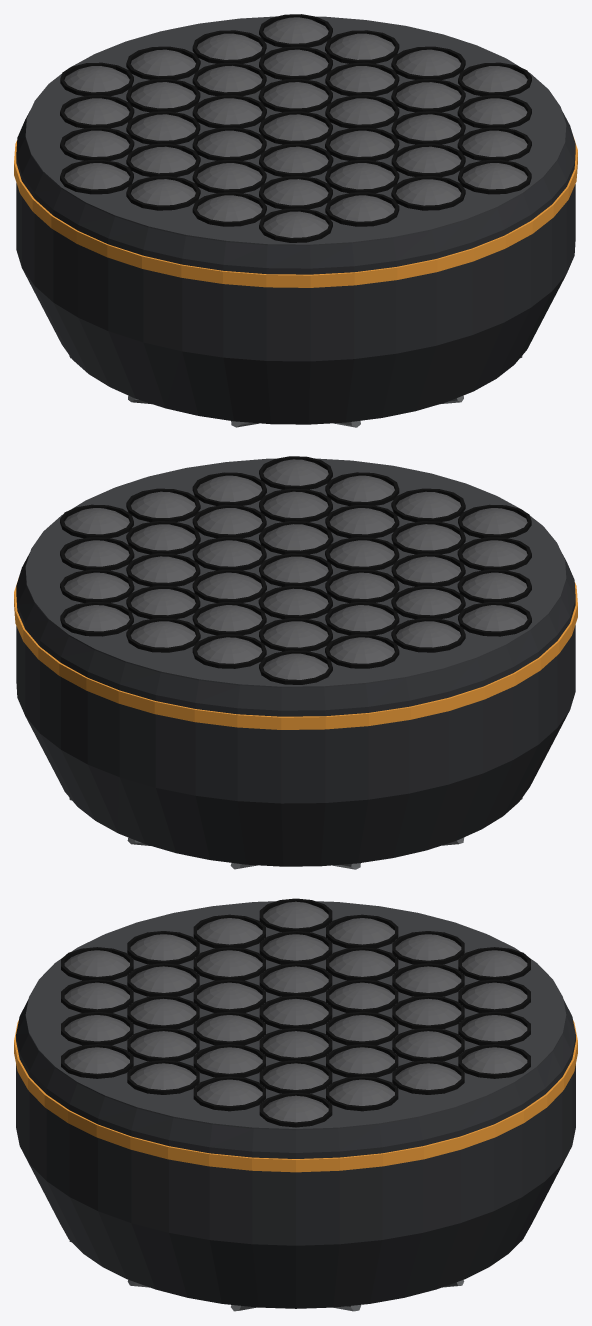
File: csc_pixelwash_w37_head.obj
The picture shows the model from 3 angles, top to bottom: view 1: azimuth 30°, elevation 25°; view 2: azimuth 150°, elevation 25°; view 3: azimuth 270°, elevation 25°; orthographic projection.
Parts seen in each view (by area): view 1: head_csc_2f3033, head_csc_59595b, head_csc_0d0d0d, head_csc_3f4043, head_csc_f9a238; view 2: head_csc_2f3033, head_csc_59595b, head_csc_0d0d0d, head_csc_3f4043, head_csc_f9a238; view 3: head_csc_2f3033, head_csc_59595b, head_csc_0d0d0d, head_csc_3f4043, head_csc_f9a238.
Part boxes in pixels (x1,y1,x2,y2): head_csc_2f3033: (16,110,575,424); head_csc_59595b: (64,17,527,237); head_csc_0d0d0d: (60,14,531,242); head_csc_3f4043: (25,16,566,245); head_csc_f9a238: (14,138,577,287); head_csc_2f3033: (16,552,575,866); head_csc_59595b: (64,459,527,679); head_csc_0d0d0d: (60,456,531,684); head_csc_3f4043: (25,458,566,687); head_csc_f9a238: (14,579,577,729); head_csc_2f3033: (16,999,575,1308); head_csc_59595b: (64,901,527,1122); head_csc_0d0d0d: (61,898,530,1127); head_csc_3f4043: (25,901,566,1130); head_csc_f9a238: (14,1020,577,1172).
Bounding box in the file's own units: 0.8675 × 0.4368 × 0.8675.
